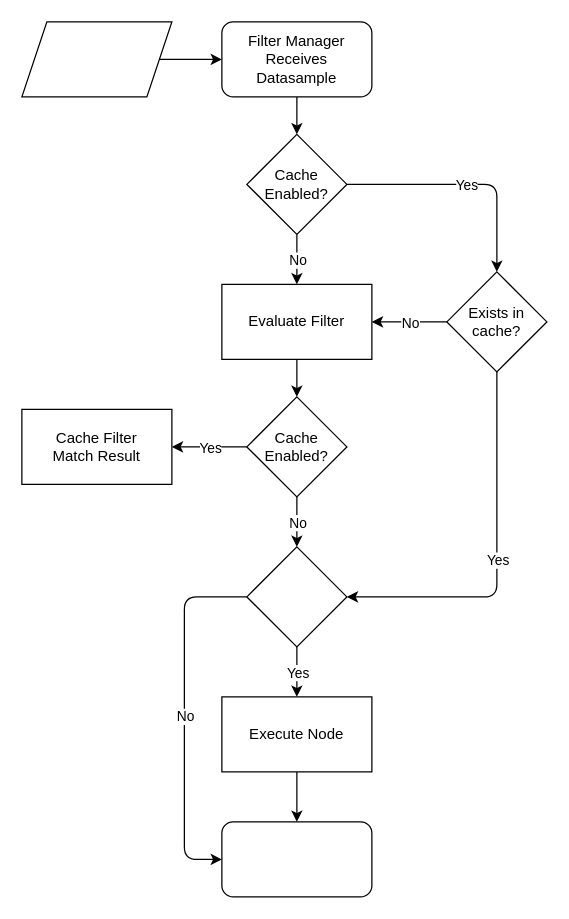
The diagram is 569 pixels wide and 919 high, and some of its shapes have lost their labels. Here are the shapes that lost their labels. From the top down, the centre of each, then its label:
At [96,59]: "Datasample .filter = ABCD".
At [296,596]: "Filter Match?".
At [296,859]: "Exit".
